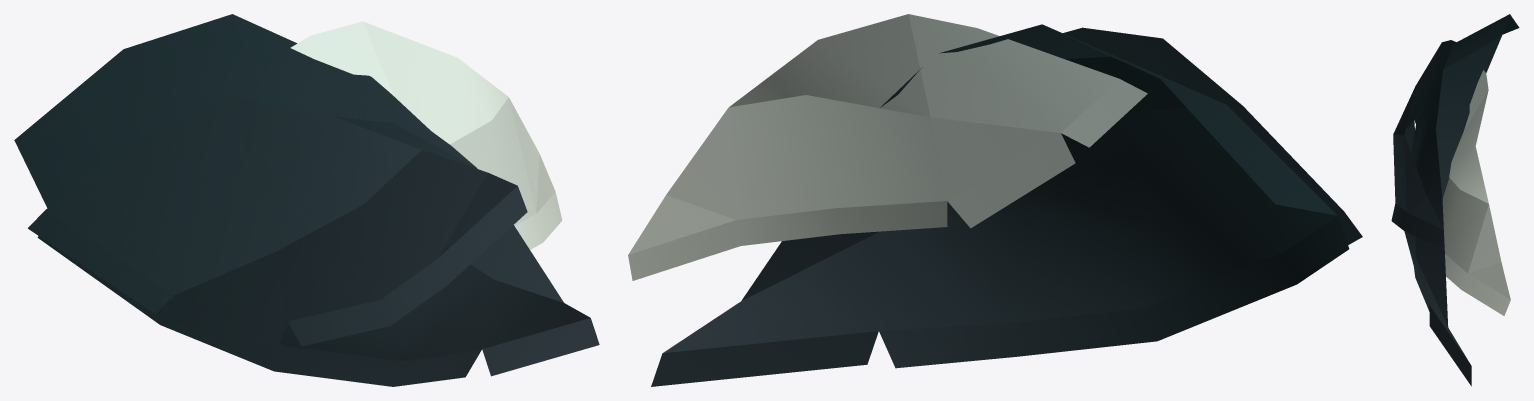
Rendered from Autruche_wingL.fbx.
3 renders of one model, left to right at view 1: azimuth 30°, elevation 25°; view 2: azimuth 150°, elevation 25°; view 3: azimuth 270°, elevation 25°, orthographic. The views are drawn at different scales.
Visible parts, largest first — view 1: Autruche_wingL; view 2: Autruche_wingL; view 3: Autruche_wingL.
Part boxes in pixels (x1,y1,x2,y2): Autruche_wingL: [14, 14, 599, 386]; Autruche_wingL: [628, 14, 1362, 386]; Autruche_wingL: [1391, 14, 1519, 386].
Size of the model in its own units: 78.88 by 51.93 by 24.42.
